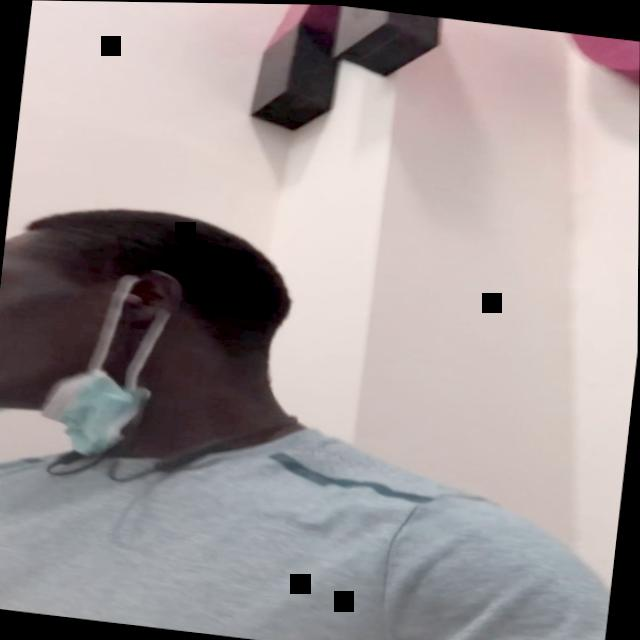NO-Mask: (0, 233, 146, 436)
